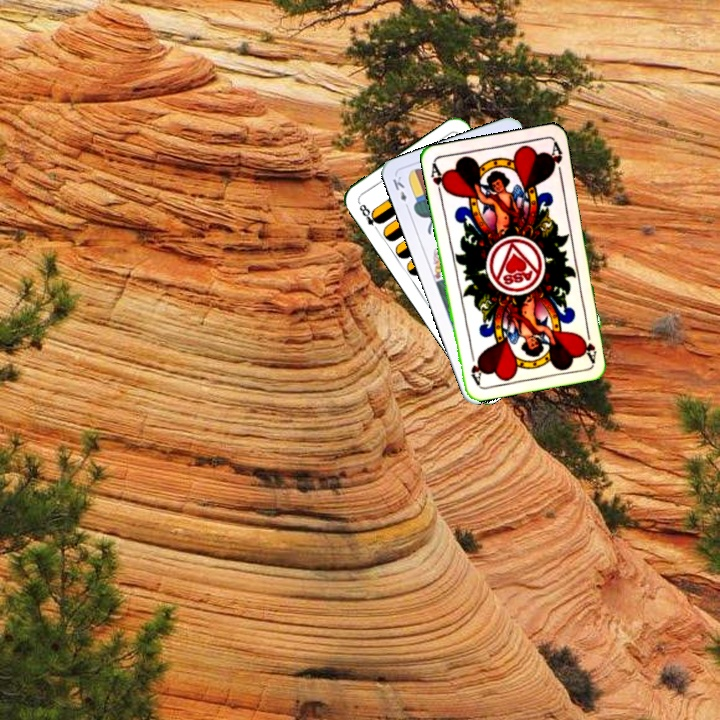E8: (354, 198, 384, 234)
EK: (388, 172, 412, 212)
HA: (427, 160, 450, 200), (579, 324, 599, 364)
